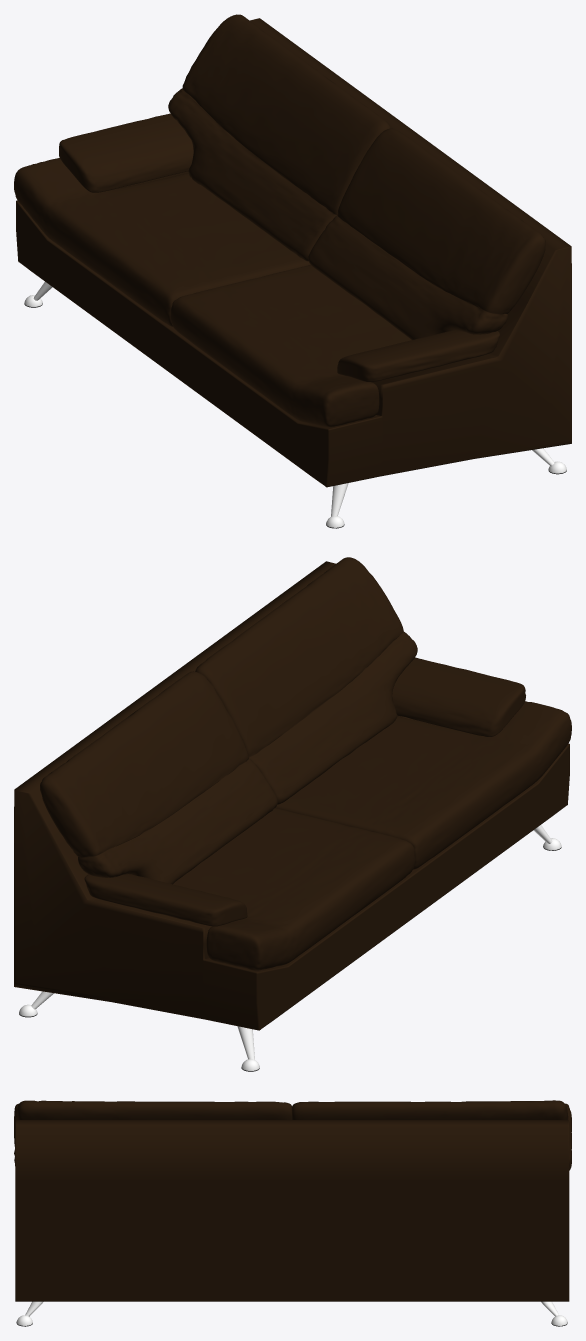
The model's file is couch.glb.
3 renders of one model, top to bottom at view 1: azimuth 30°, elevation 25°; view 2: azimuth 150°, elevation 25°; view 3: azimuth 270°, elevation 25°, orthographic. The views are drawn at different scales.
Visible parts, largest first — view 1: espaldar sofa_0, sofa-base_1, sofa-cojin_3, sofa-brazos_2; view 2: espaldar sofa_0, sofa-base_1, sofa-cojin_3, sofa-brazos_2; view 3: sofa-base_1, espaldar sofa_0.
Boxes of the visible parts, x1=… form: espaldar sofa_0: x1=168, y1=14, x2=545, y2=339; sofa-base_1: x1=16, y1=18, x2=571, y2=528; sofa-cojin_3: x1=14, y1=158, x2=411, y2=427; sofa-brazos_2: x1=59, y1=113, x2=499, y2=381; espaldar sofa_0: x1=40, y1=557, x2=417, y2=884; sofa-base_1: x1=14, y1=561, x2=569, y2=1071; sofa-cojin_3: x1=173, y1=701, x2=571, y2=970; sofa-brazos_2: x1=84, y1=657, x2=525, y2=926; sofa-base_1: x1=15, y1=1120, x2=569, y2=1326; espaldar sofa_0: x1=16, y1=1100, x2=568, y2=1119.
Size of the model in its own units: 0.9124 by 0.8487 by 2.01.
